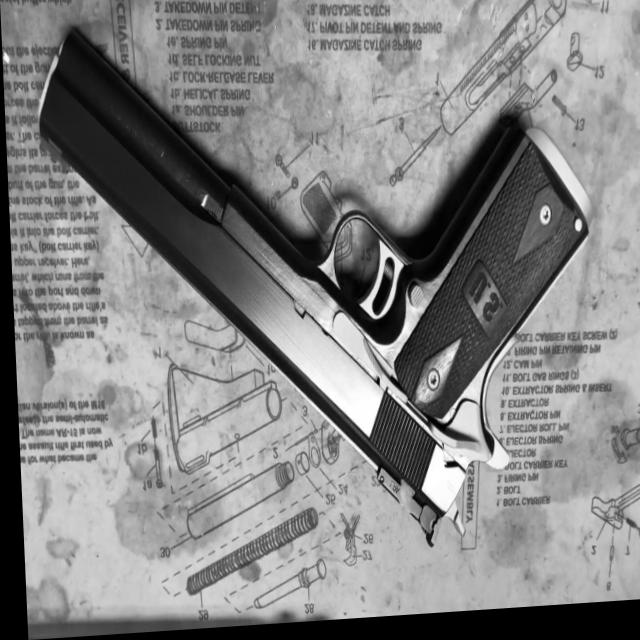handgun: (35, 0, 603, 574)
